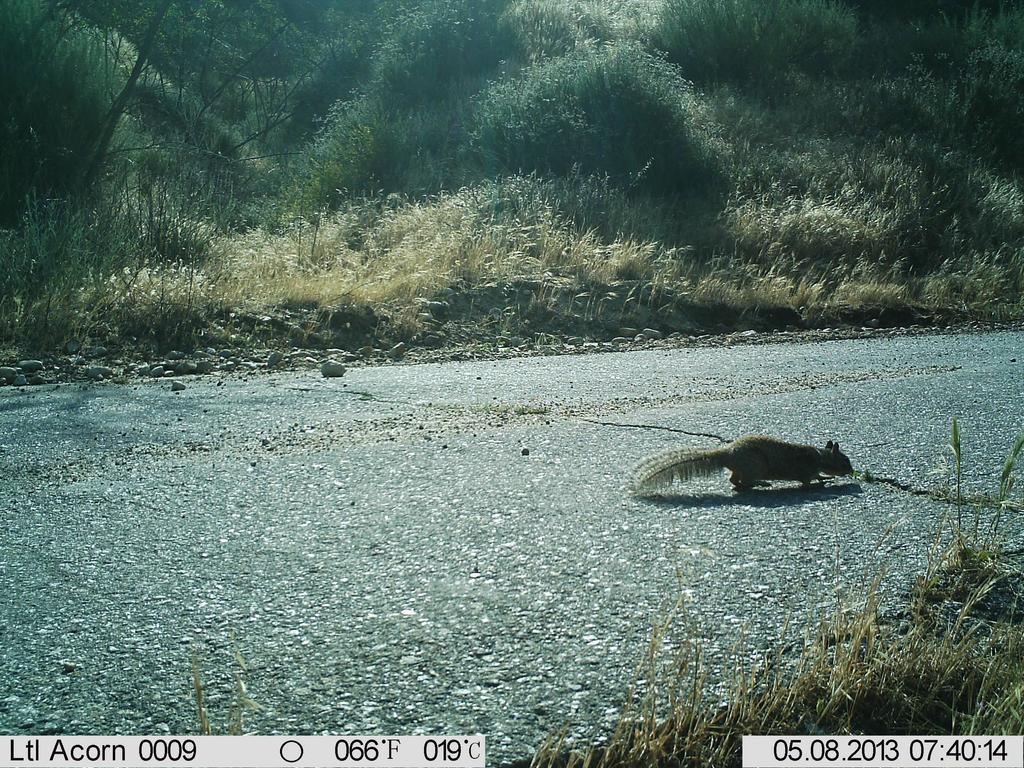squirrel: (610, 431, 879, 505)
